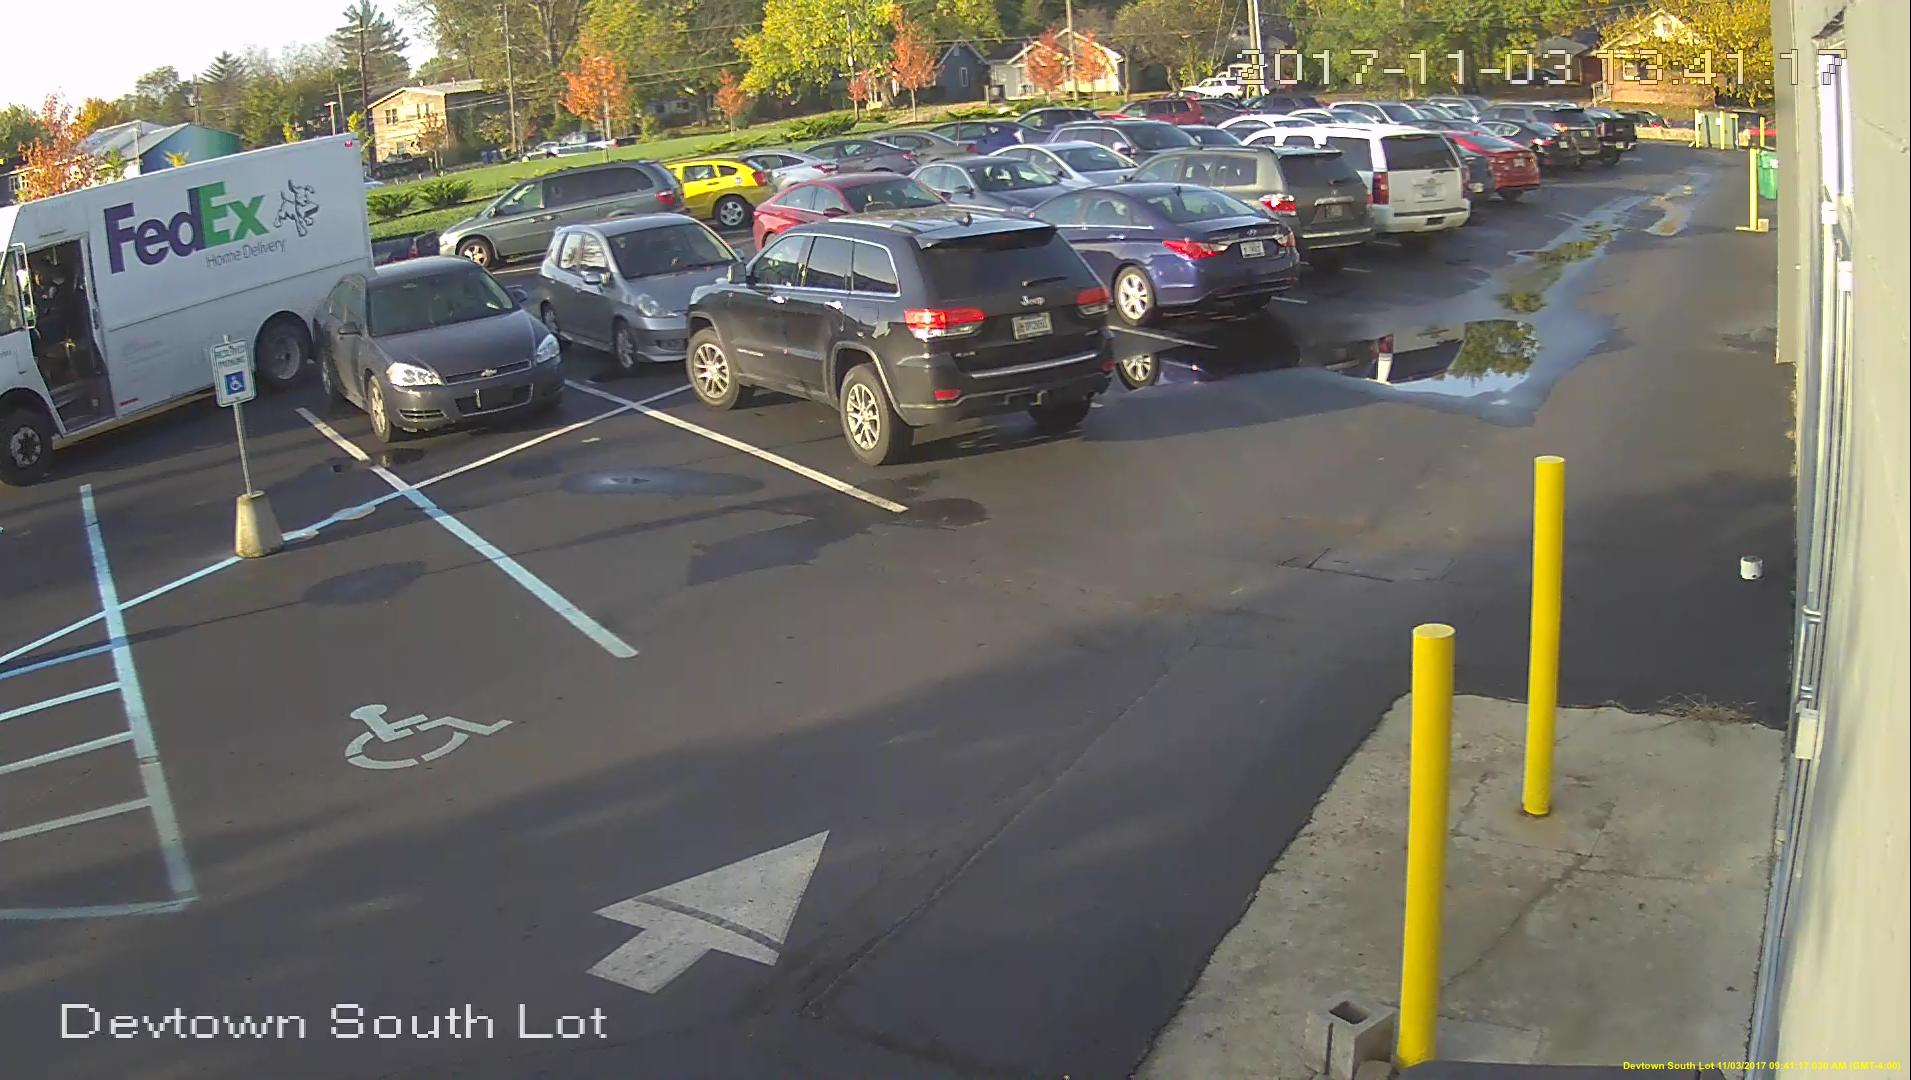fedex_truck: (1, 129, 371, 488)
